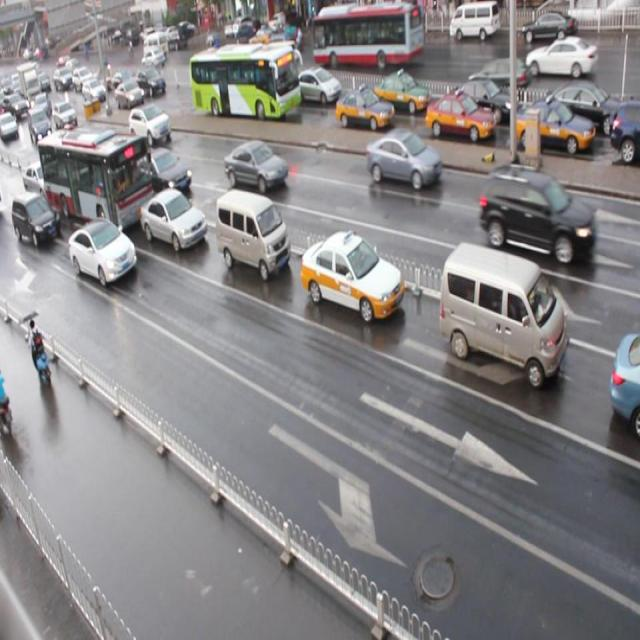car: (480, 164, 594, 264), (300, 229, 403, 321), (365, 128, 439, 192), (515, 101, 595, 160), (69, 218, 136, 285), (542, 79, 624, 133), (140, 188, 208, 252), (426, 91, 494, 144), (445, 77, 517, 127), (608, 330, 640, 432), (224, 142, 289, 192), (138, 146, 190, 201), (335, 85, 394, 131), (12, 188, 57, 248), (374, 72, 429, 114), (292, 67, 340, 110), (130, 104, 173, 148), (610, 100, 640, 161), (22, 160, 62, 204), (136, 65, 164, 97), (114, 80, 145, 108)
truck: (438, 240, 568, 389), (215, 188, 290, 284)
van: (38, 127, 154, 235), (189, 44, 300, 122)
